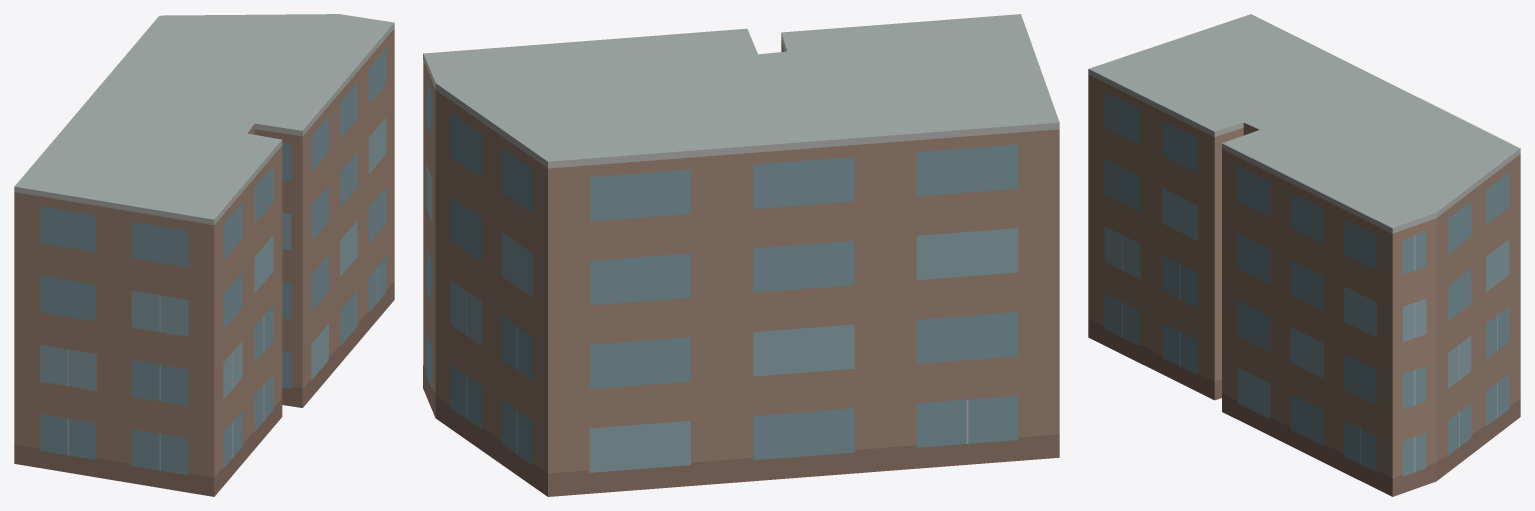
Rendered from survey-upis-32943928.glb.
3 views of the same model, side by side, from view 1: azimuth 30°, elevation 25°; view 2: azimuth 150°, elevation 25°; view 3: azimuth 270°, elevation 25° (orthographic). The views are drawn at different scales.
Parts seen in each view (by area): view 1: survey-upis-32943928.tmp; view 2: survey-upis-32943928.tmp; view 3: survey-upis-32943928.tmp.
Part boxes in pixels (<box>): survey-upis-32943928.tmp: <box>14,14,394,496</box>; survey-upis-32943928.tmp: <box>423,14,1059,496</box>; survey-upis-32943928.tmp: <box>1088,14,1520,496</box>.
Size of the model in its own units: 20.89 by 12.2 by 17.8.
